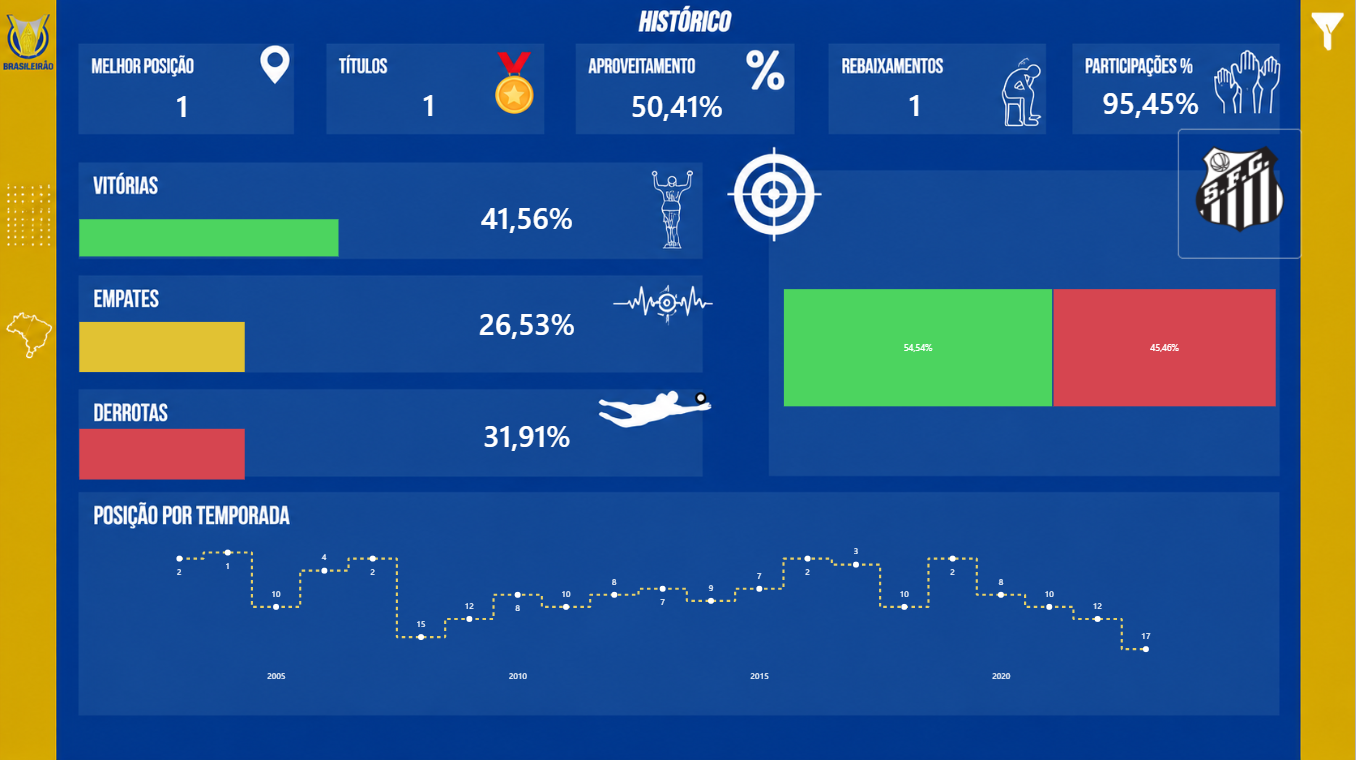

What the dashboard file says about the page in this screenshot:
{"tool":"powerbi","page":{"name":"Análise","canvas":[1920,1080],"ordinal":2},"visuals":[{"type":"lineChart","fields":{"Category":["brasileirao.Temporada"],"Y":["Sum(brasileirao.Posição)"]},"box":[156,752,1564,236],"z":0},{"type":"cardVisual","fields":{"Data":["Medidas.Melhor posição"]},"box":[131.7,113.3,251.7,68.3],"z":1000},{"type":"cardVisual","fields":{"Data":["Medidas.Nº de títulos"]},"box":[528.3,100,158.3,95],"z":2000},{"type":"cardVisual","fields":{"Data":["Medidas.aproveitamento"]},"box":[860,103.3,198.3,91.7],"z":3000},{"type":"cardVisual","fields":{"Data":["Medidas.Rebaixamentos"]},"box":[1225,96.7,143.3,103.3],"z":4000},{"type":"cardVisual","fields":{"Data":["Medidas.Participações"]},"box":[1506.7,96.7,248.3,98.3],"z":5000},{"type":"clusteredBarChart","fields":{"Y":["Medidas.Percentual de vitórias","Medidas.Percentual de vitórias"]},"box":[111.7,276.7,883.3,113.3],"z":6000},{"type":"cardVisual","fields":{"Data":["Medidas.Percentual de empates"]},"box":[633.3,401.7,226.7,111.7],"z":7000},{"type":"cardVisual","fields":{"Data":["Medidas.Percentual de derrotas"]},"box":[633.3,540,226.7,151.7],"z":8000},{"type":"cardVisual","fields":{"Data":["Medidas.Percentual de vitórias"]},"box":[633.3,246.7,226.7,120],"z":9000},{"type":"clusteredBarChart","fields":{"Y":["Medidas.Percentual de empates"]},"box":[111.7,563.3,883.3,151.7],"z":10000},{"type":"clusteredBarChart","fields":{"Y":["Medidas.Percentual de empates"]},"box":[111.7,413.3,883.3,150],"z":11000},{"type":"hundredPercentStackedBarChart","fields":{"Y":["Sum(brasileirao.Gols Pro)","Sum(brasileirao.Gols contra)"]},"box":[1110,318.3,696.7,340],"z":12000},{"type":"simpleImageEBC4593F96F1425FB3D84C5BF02B5075","fields":{"imageURL":["44 times.Link direto PNG 512"]},"box":[1668,182,176,184],"z":13500},{"type":"actionButton","box":[1842.5,0,77.5,100],"z":14001}]}

Visuals, with their boxes in screenshot pixels (x1, y1, x2, y2), scaled from the page's 1920x1080 canvas onto the 1360x760 screenshot:
lineChart - brasileirao.Temporada x Sum(brasileirao.Posição): 110 529 1218 695
cardVisual - Medidas.Melhor posição: 93 80 272 128
cardVisual - Medidas.Nº de títulos: 374 70 486 137
cardVisual - Medidas.aproveitamento: 609 73 750 137
cardVisual - Medidas.Rebaixamentos: 868 68 969 141
cardVisual - Medidas.Participações: 1067 68 1243 137
clusteredBarChart - Medidas.Percentual de vitórias x Medidas.Percentual de vitórias: 79 195 705 274
cardVisual - Medidas.Percentual de empates: 449 283 609 361
cardVisual - Medidas.Percentual de derrotas: 449 380 609 487
cardVisual - Medidas.Percentual de vitórias: 449 174 609 258
clusteredBarChart - Medidas.Percentual de empates: 79 396 705 503
clusteredBarChart - Medidas.Percentual de empates: 79 291 705 396
hundredPercentStackedBarChart - Sum(brasileirao.Gols Pro) x Sum(brasileirao.Gols contra): 786 224 1280 463
simpleImageEBC4593F96F1425FB3D84C5BF02B5075 - 44 times.Link direto PNG 512: 1182 128 1306 258
actionButton: 1305 0 1359 70
